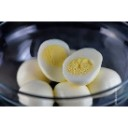begg: (64, 48, 102, 85), (18, 60, 52, 85)
